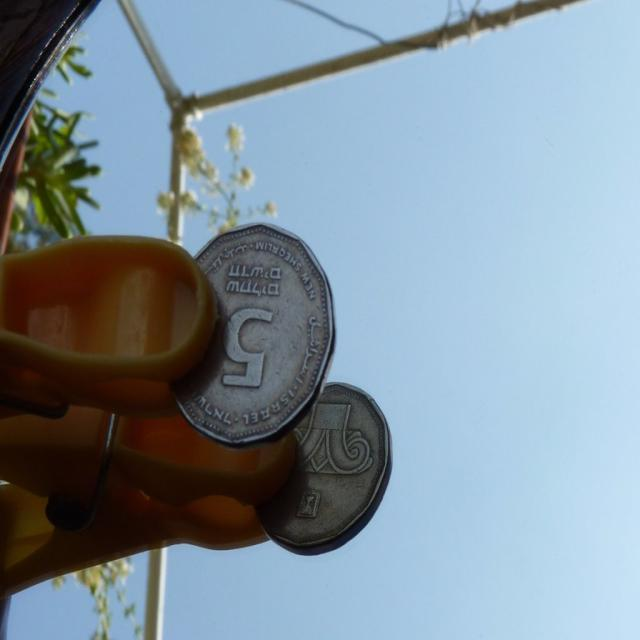Coin: (168, 222, 340, 449), (252, 376, 391, 550)
